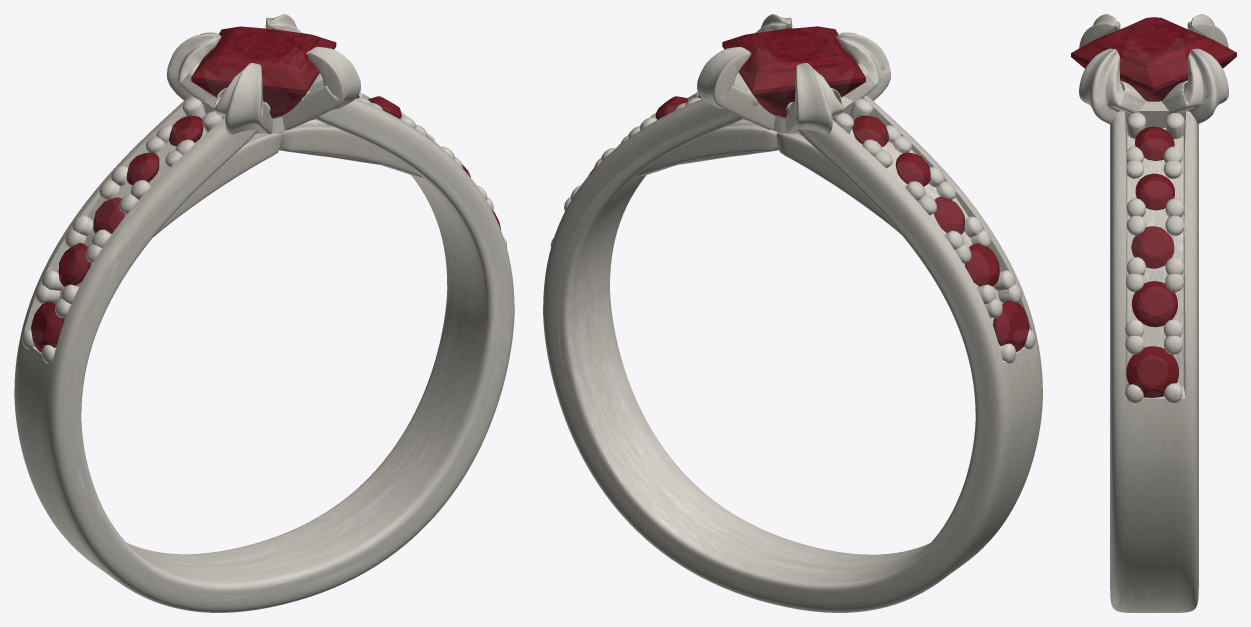
The model's file is numa_plata_ruby.glb.
3 views of the same model, side by side, from view 1: azimuth 30°, elevation 25°; view 2: azimuth 150°, elevation 25°; view 3: azimuth 270°, elevation 25° (orthographic).
Parts seen in each view (by area): view 1: Centro, BezierCurve.011, Princess.003, Grifa.001, BezierCurve.003, DIAMANT.002; view 2: Centro, BezierCurve.011, Princess.003, Grifa.001, DIAMANT.002, BezierCurve.003; view 3: Centro, BezierCurve.011, DIAMANT.002, Princess.003, Grifa.001.
Boxes of the visible parts, x1,y1,x2,y2 form: Centro: (14,89,514,612); BezierCurve.011: (167,14,360,134); Princess.003: (191,26,336,117); Grifa.001: (22,92,506,363); BezierCurve.003: (153,119,423,237); DIAMANT.002: (31,95,500,352); Centro: (543,89,1042,612); BezierCurve.011: (697,14,890,134); Princess.003: (722,26,865,117); Grifa.001: (550,92,1035,363); DIAMANT.002: (588,95,1029,351); BezierCurve.003: (634,119,901,234); Centro: (1110,101,1198,612); BezierCurve.011: (1079,14,1228,124); DIAMANT.002: (1126,126,1178,397); Princess.003: (1071,17,1236,101); Grifa.001: (1125,112,1184,403).
Bounding box in the file's own units: 20.24 × 22.93 × 6.28.
2 materials, 2 textured.
